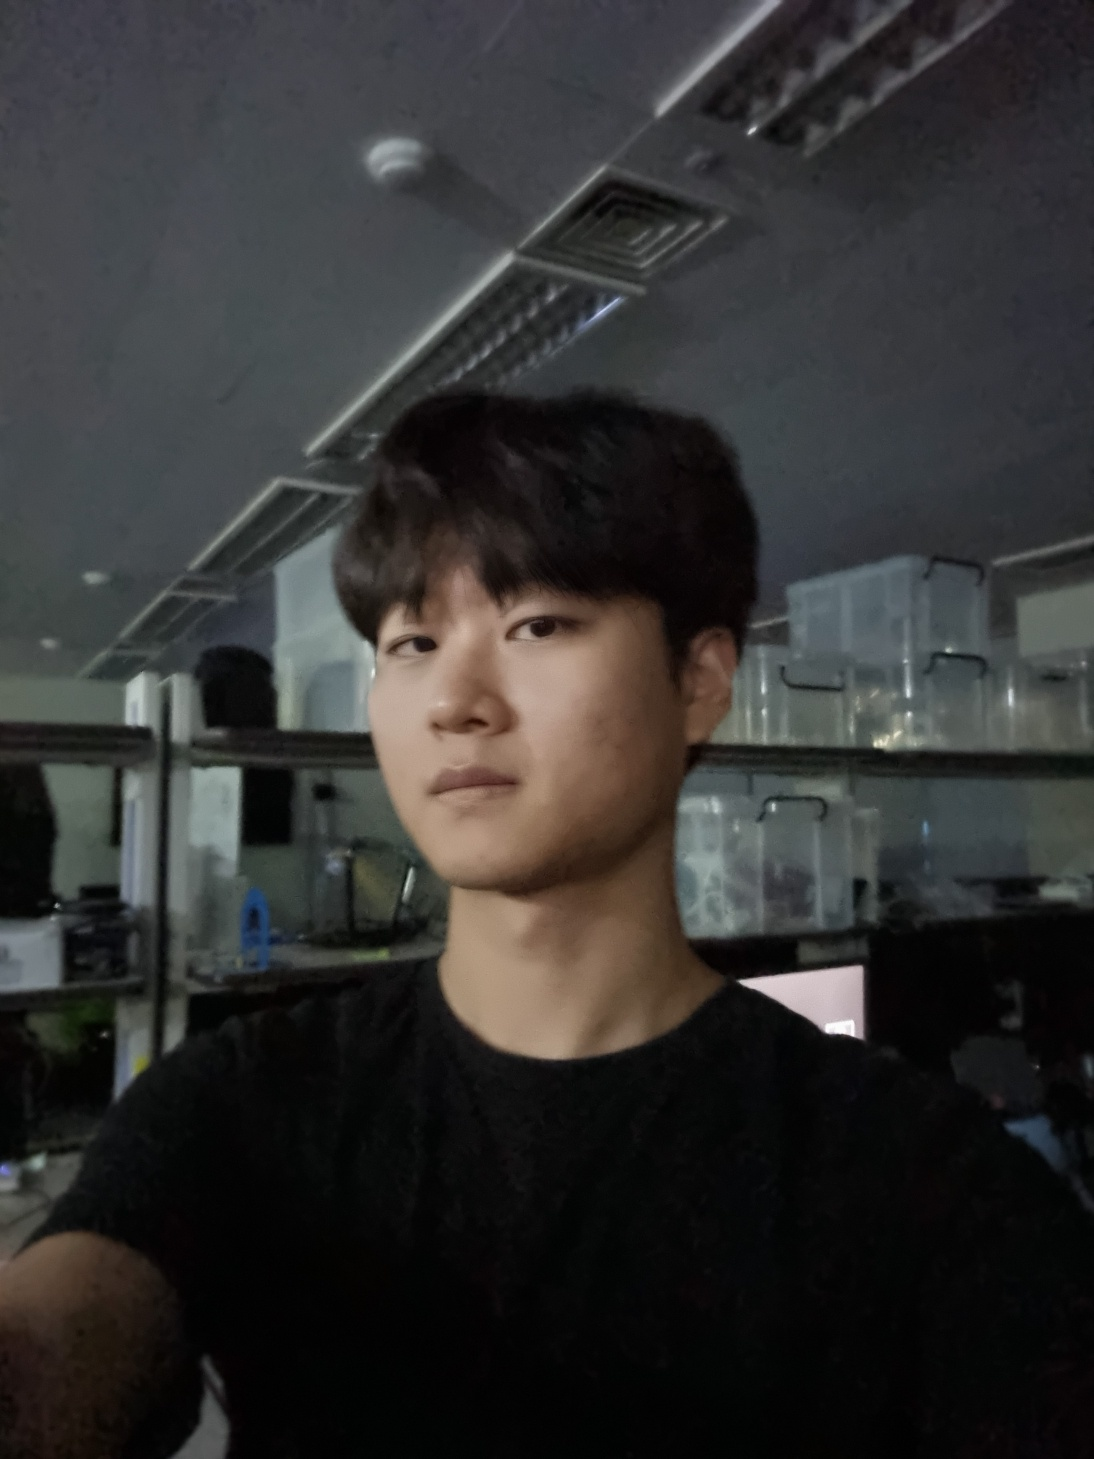Non-Helmet: (256, 341, 792, 923)
